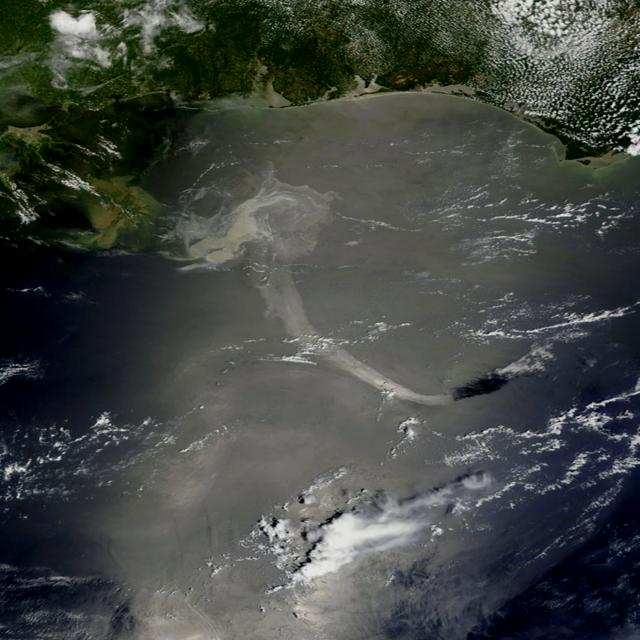oil spill: (190, 166, 336, 343)
